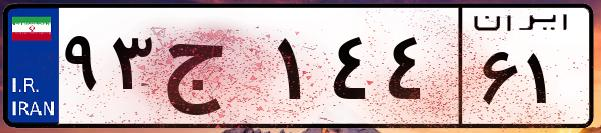1: (270, 28, 330, 110), (525, 38, 570, 115)
3: (110, 28, 158, 98)
4: (385, 28, 445, 110), (330, 28, 385, 110)
6: (475, 38, 525, 113)
9: (57, 26, 110, 100)
ج: (158, 20, 270, 120)
